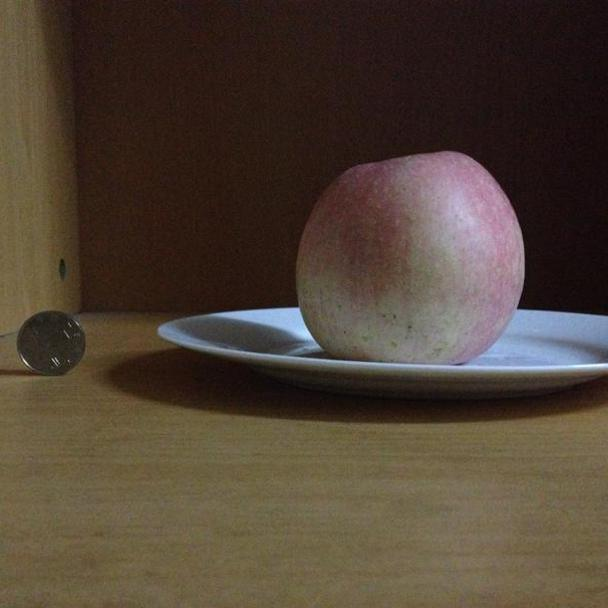apple: (294, 149, 524, 362)
